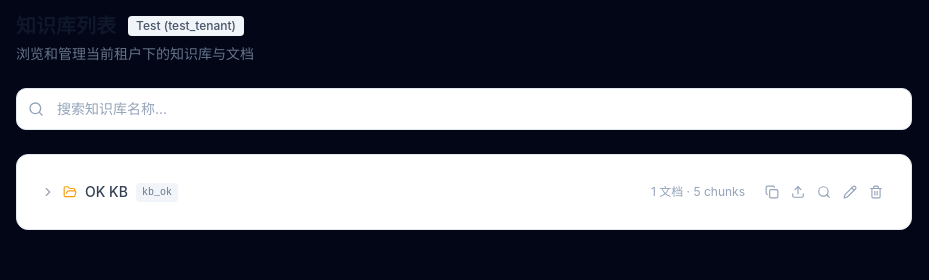
Test case: Phase 5 Integration › PROCESSING 文档轮询与按钮状态 › SUCCESS 状态的文档不应显示重试按钮
The width and height of the screenshot is (929, 280).
Expected: the text "OK KB" is shown, [85,182,128,202]
Click the text "OK KB".
click(106, 192)  # box [41,181,887,203]
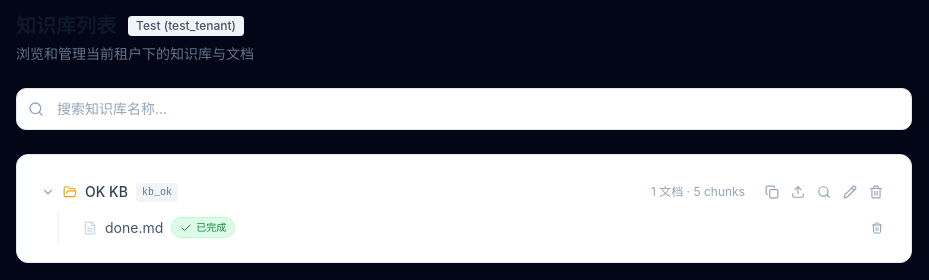
Expected: the text "已完成" is shown, [171,217,235,238]
